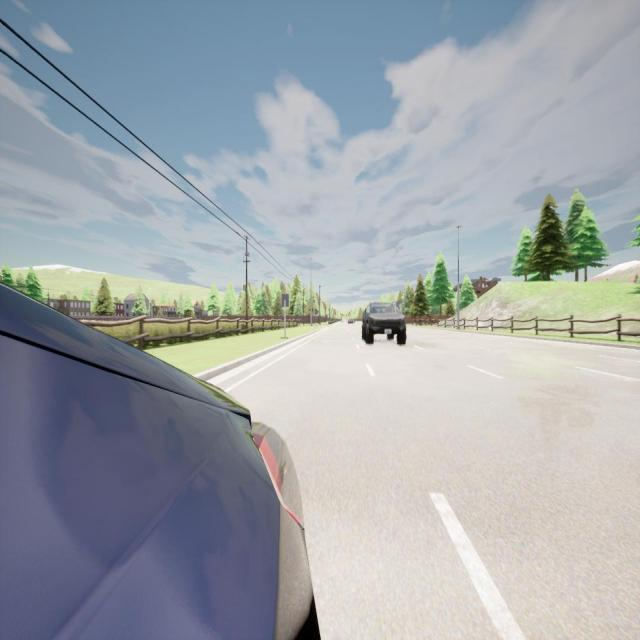Traffic_Signs: (282, 294, 289, 308)
Vehicle: (0, 285, 318, 638), (362, 302, 407, 346), (348, 318, 356, 325)
